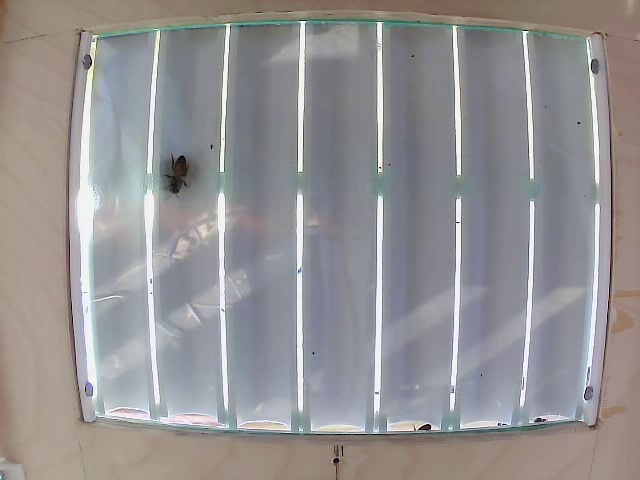bee: (154, 149, 194, 208)
